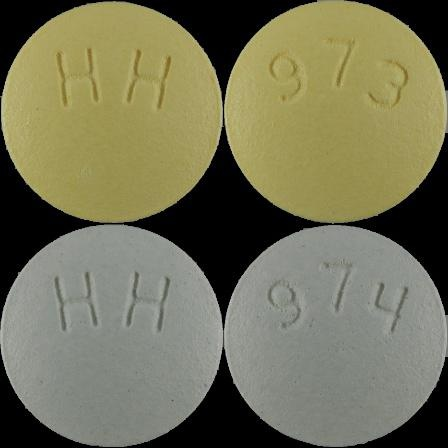43547-269: (0, 0, 224, 224)
